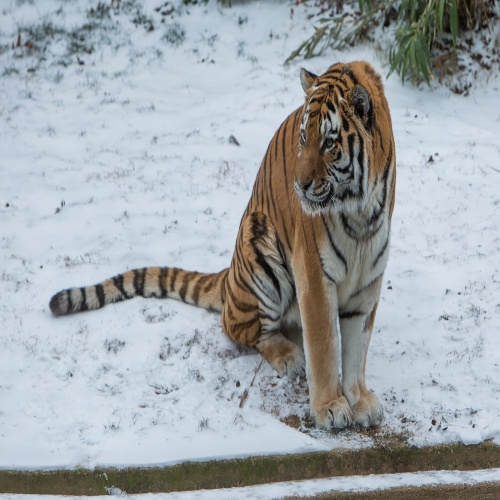tiger: (50, 52, 444, 432)
